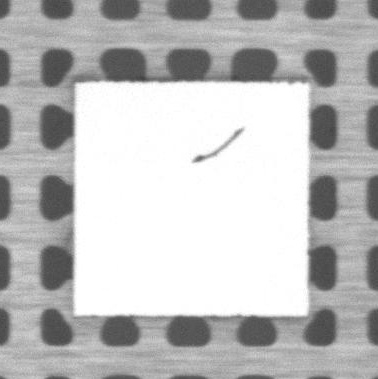DIE_INK: (192, 126, 246, 163)
